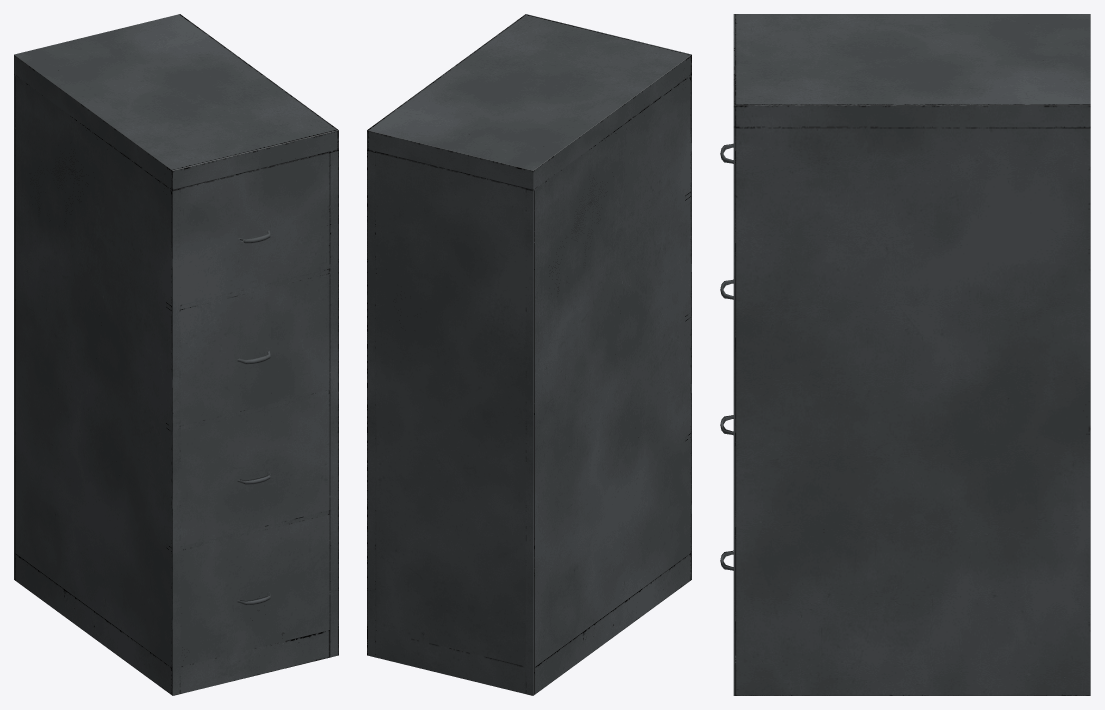
Rendered from Skrinka.fbx.
3 views of the same model, side by side, from view 1: azimuth 30°, elevation 25°; view 2: azimuth 150°, elevation 25°; view 3: azimuth 270°, elevation 25° (orthographic). The views are drawn at different scales.
Visible parts, largest first — view 1: skrinky; view 2: skrinky; view 3: skrinky.
Boxes of the visible parts, left/top/right/bottom form: skrinky: left=14, top=14, right=338, bottom=695; skrinky: left=367, top=14, right=691, bottom=695; skrinky: left=720, top=14, right=1090, bottom=695.
Size of the model in its own units: 44.56 by 135 by 76.48.
1 material, 1 textured.
